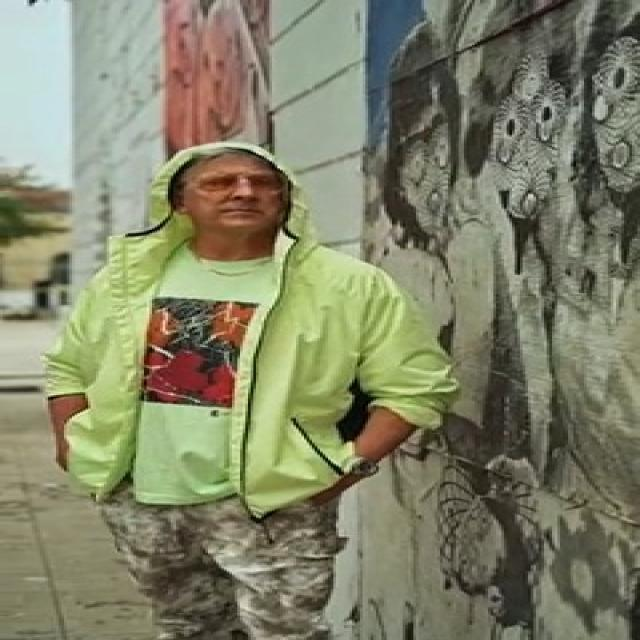Jacket_Wearer: (62, 227, 450, 494)
Person: (80, 125, 505, 640)
